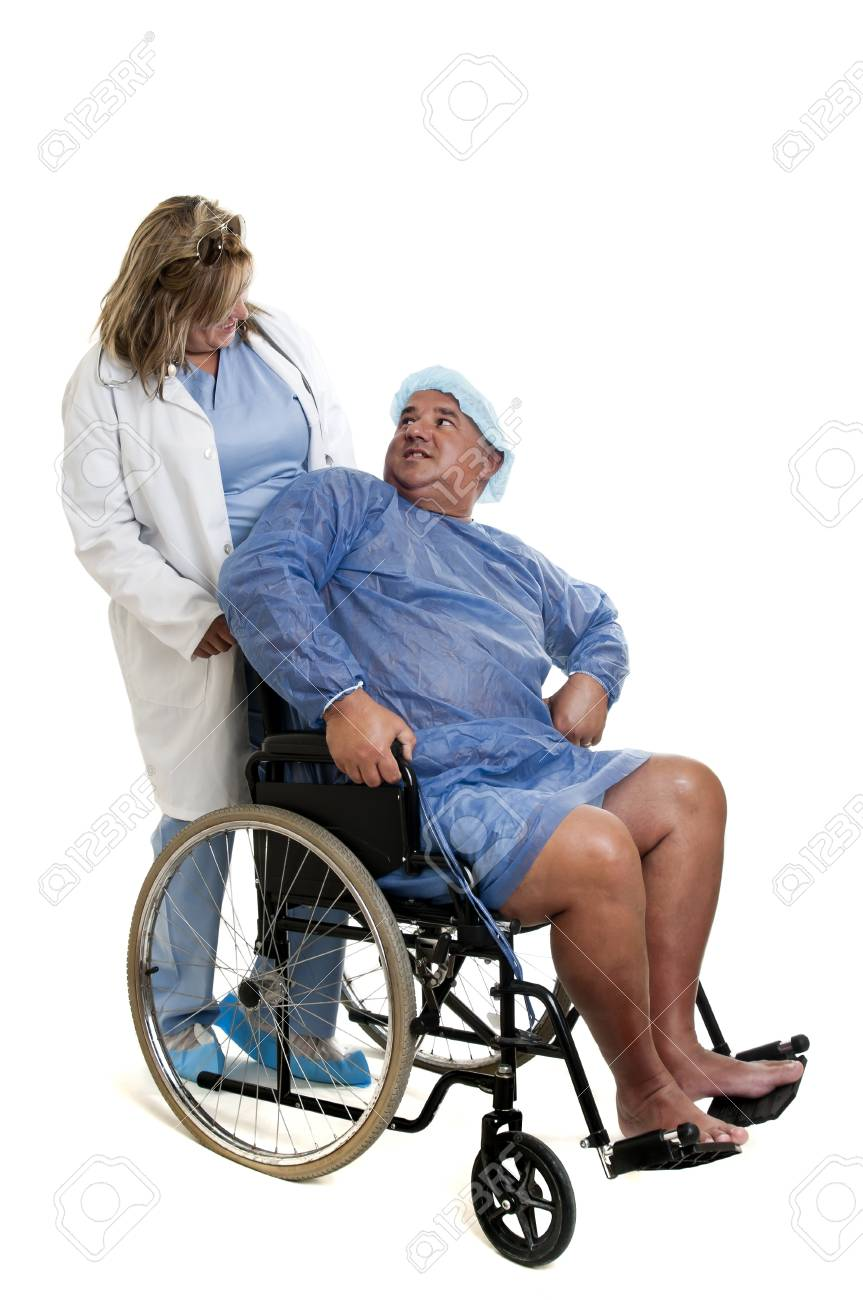wheelchair: (123, 365, 812, 1268)
